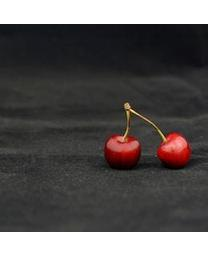cherry: (156, 134, 192, 168), (105, 135, 140, 167)
